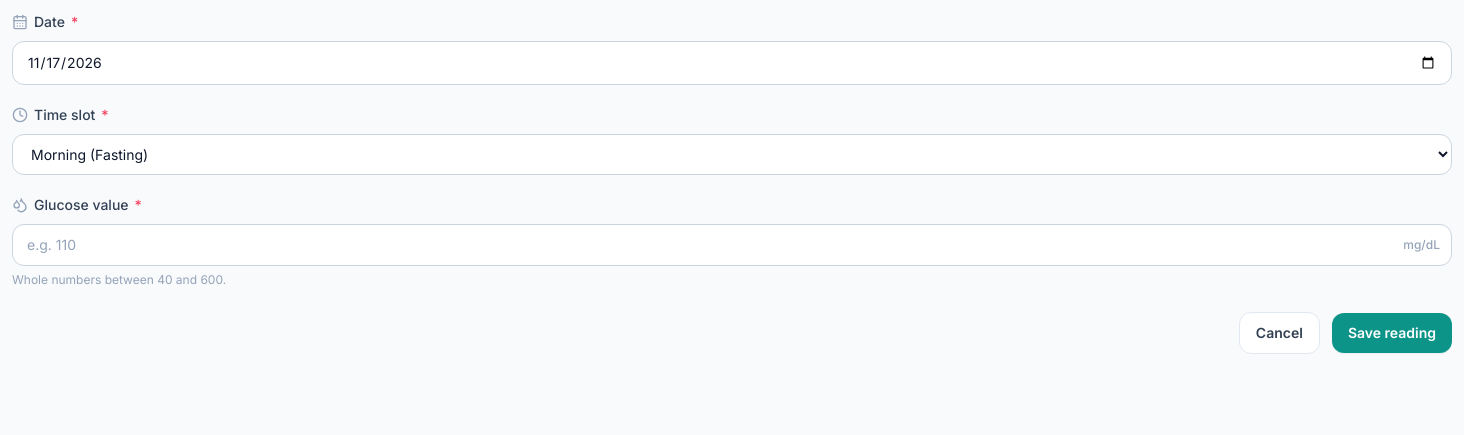
Scenario: ReadingForm - submission › shows the server message when the API rejects the reading
Step 1. Type "120" into the field labelled "Glucose value *" → (732, 245), box [12,224,1452,266]
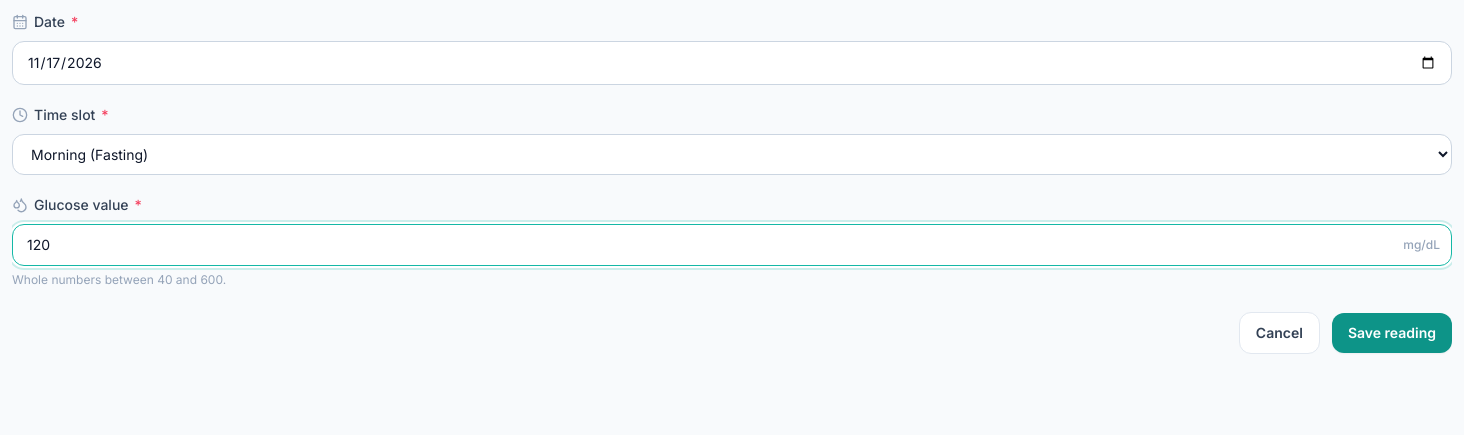
Step 2. Click the button "Save reading" → (1392, 333), box [1332,313,1452,353]
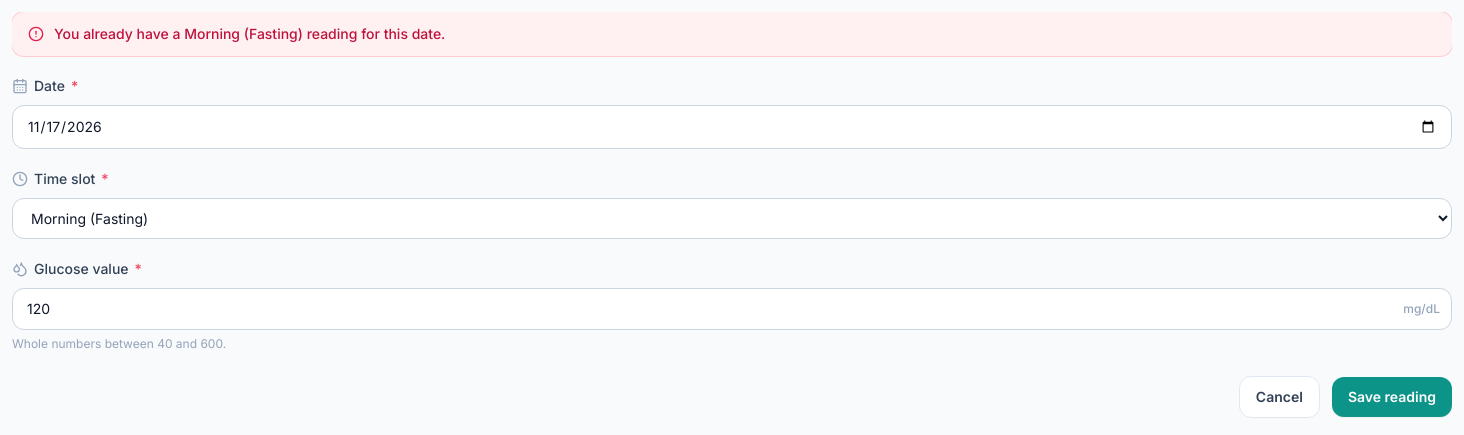
Result: the text "You already have a Morning (Fasting) reading for this date." is shown at [54,24,445,44]
